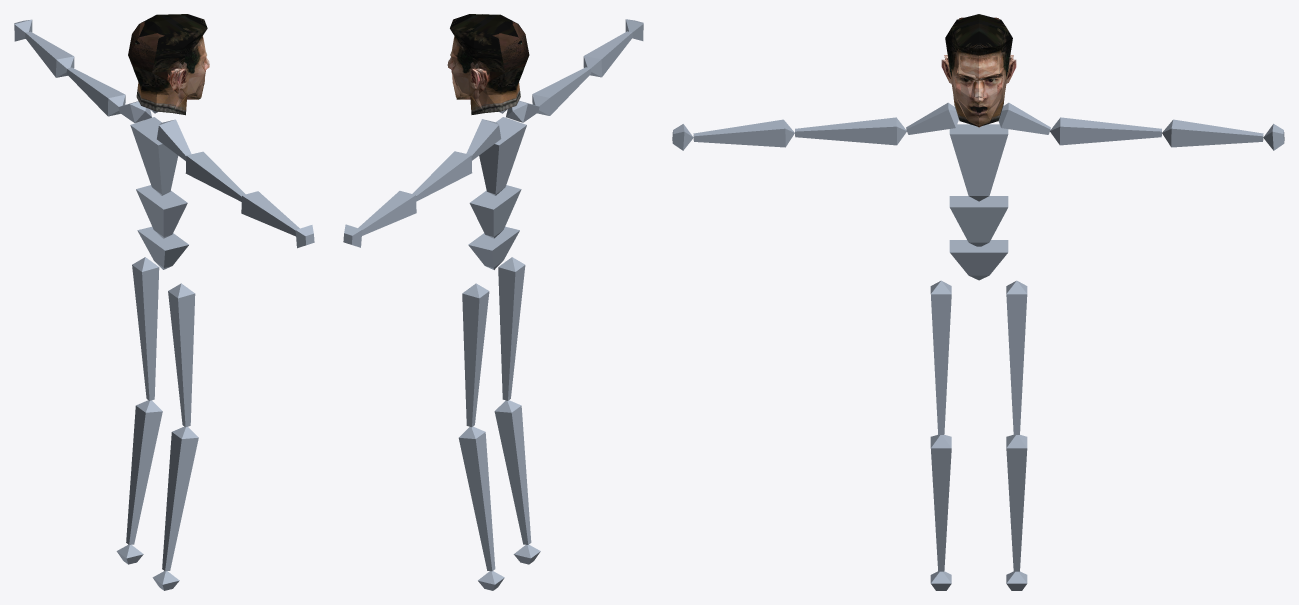
File: Head Variants.obj
The picture shows the model from 3 angles, left to right: view 1: azimuth 30°, elevation 25°; view 2: azimuth 150°, elevation 25°; view 3: azimuth 270°, elevation 25°; orthographic projection. The views are drawn at different scales.
Visible parts, largest first — view 1: chris, bip01_r_calf, bip01_l_calf, bip01_r_thigh, bip01_l_thigh, bip01_spine1, bip01_spine, bip01_r_upperarm, shiek, charles, bip01_l_upperarm, bip01_r_forearm (+4 smaller); view 2: chris, bip01_r_calf, bip01_l_calf, bip01_l_thigh, bip01_r_thigh, bip01_spine1, bip01_spine, bip01_l_upperarm, shiek, charles, bip01_r_upperarm, bip01_l_forearm (+4 smaller); view 3: bip01_spine1, chris, shiek, bip01_l_thigh, bip01_r_thigh, bip01_spine, bip01_l_upperarm, bip01_r_upperarm, bip01_l_calf, bip01_r_calf, bip01_l_forearm, bip01_r_forearm (+4 smaller).
Part boxes in pixels (left/top/right/bottom): chris: left=129, top=14, right=209, bottom=112; bip01_r_calf: left=162, top=426, right=198, bottom=571; bip01_l_calf: left=126, top=400, right=162, bottom=544; bip01_r_thigh: left=168, top=283, right=195, bottom=427; bip01_l_thigh: left=132, top=257, right=159, bottom=400; bip01_spine1: left=130, top=117, right=178, bottom=195; bip01_spine: left=136, top=185, right=187, bottom=238; bip01_r_upperarm: left=185, top=151, right=245, bottom=201; shiek: left=133, top=18, right=208, bottom=115; charles: left=128, top=21, right=202, bottom=99; bip01_l_upperarm: left=66, top=67, right=125, bottom=116; bip01_r_forearm: left=241, top=191, right=299, bottom=236; chris: left=448, top=14, right=528, bottom=112; bip01_r_calf: left=494, top=400, right=531, bottom=544; bip01_l_calf: left=458, top=426, right=495, bottom=571; bip01_l_thigh: left=462, top=283, right=489, bottom=427; bip01_r_thigh: left=498, top=257, right=525, bottom=400; bip01_spine1: left=479, top=117, right=526, bottom=195; bip01_spine: left=469, top=185, right=521, bottom=238; bip01_l_upperarm: left=412, top=151, right=472, bottom=201; shiek: left=449, top=17, right=523, bottom=114; charles: left=455, top=21, right=529, bottom=93; bip01_r_upperarm: left=532, top=67, right=591, bottom=115; bip01_l_forearm: left=358, top=191, right=416, bottom=235; bip01_spine1: left=949, top=124, right=1008, bottom=201; chris: left=945, top=14, right=1012, bottom=125; shiek: left=941, top=38, right=1016, bottom=126; bip01_l_thigh: left=1006, top=280, right=1027, bottom=434; bip01_r_thigh: left=930, top=280, right=951, bottom=434; bip01_spine: left=949, top=196, right=1008, bottom=246; bip01_l_upperarm: left=1050, top=117, right=1161, bottom=145; bip01_r_upperarm: left=795, top=117, right=906, bottom=145; bip01_l_calf: left=1006, top=435, right=1027, bottom=571; bip01_r_calf: left=930, top=435, right=951, bottom=571; bip01_l_forearm: left=1162, top=119, right=1263, bottom=147; bip01_r_forearm: left=693, top=119, right=794, bottom=147.
Size of the model in its own units: 8.92 by 60.92 by 58.45.
